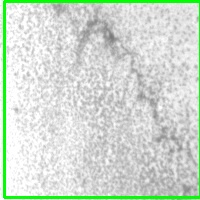pitted_surface: (5, 1, 200, 197)
